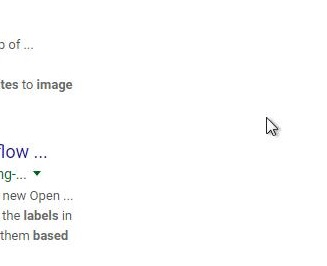cursor: (265, 115, 279, 136)
